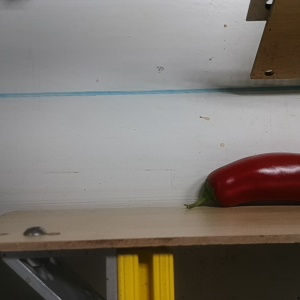Cut Point: (198, 168, 226, 207)
